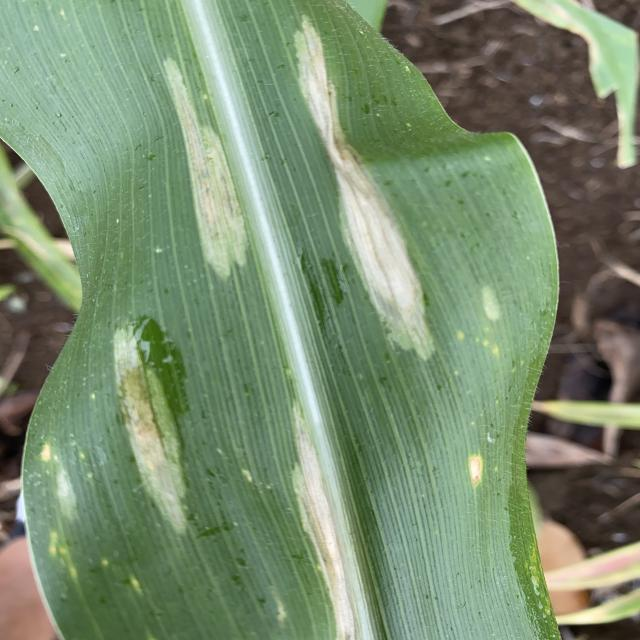Corn_Leaf_Blight: (0, 1, 562, 640)
